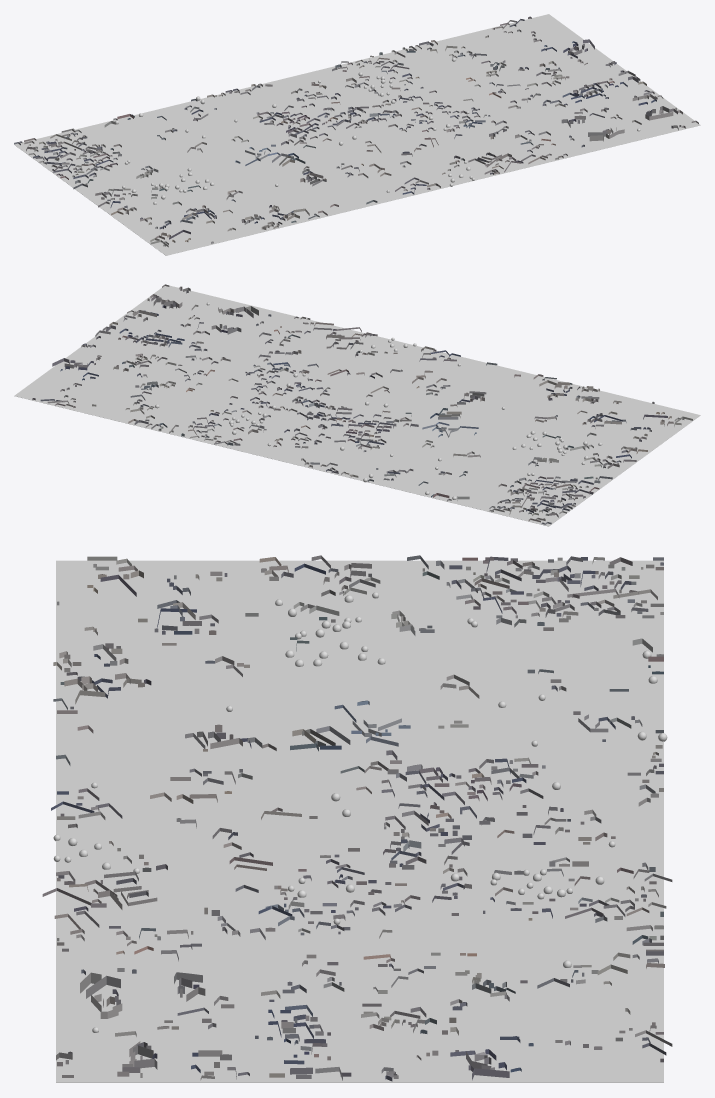
The picture shows the model from 3 angles, top to bottom: view 1: azimuth 30°, elevation 25°; view 2: azimuth 150°, elevation 25°; view 3: azimuth 270°, elevation 25°; orthographic projection. The views are drawn at different scales.
Parts seen in each view (by area): view 1: Ground_Base; view 2: Ground_Base; view 3: Ground_Base.
Boxes of the visible parts, x1=… form: Ground_Base: x1=14, y1=14, x2=700, y2=255; Ground_Base: x1=14, y1=285, x2=700, y2=526; Ground_Base: x1=56, y1=560, x2=663, y2=1082.
Size of the model in its own units: 1646 by 22.2 by 835.
